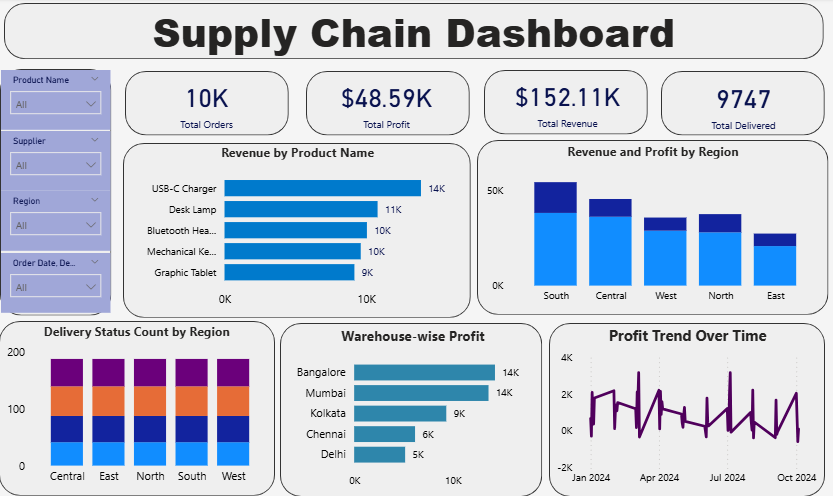

The dashboard page shown, as its layout file describes it:
{"tool":"powerbi","page":{"name":"Page 1","canvas":[912,541],"ordinal":0},"visuals":[{"type":"shape","box":[9,4,891,61],"z":0},{"type":"shape","box":[4,76,121,268],"z":1000},{"type":"shape","box":[140,78,178,70],"z":2000},{"type":"shape","box":[337,78,178,70],"z":3000},{"type":"shape","box":[530,77,178,70],"z":4000},{"type":"shape","box":[723,78,178,70],"z":5000},{"type":"card","fields":{"Values":["Supply_Chain_With_Product_Names.Total Orders"]},"box":[148,78,162,70],"z":6000},{"type":"card","fields":{"Values":["Supply_Chain_With_Product_Names.Total Profit"]},"box":[343,78,162,70],"z":7000},{"type":"card","fields":{"Values":["Supply_Chain_With_Product_Names.Total Revenue"]},"box":[540,77,162,70],"z":8000},{"type":"card","fields":{"Values":["Supply_Chain_With_Product_Names.Total Delivered"]},"box":[732,79,162,70],"z":9000},{"type":"slicer","fields":{"Values":["Supply_Chain_With_Product_Names.Product Name"]},"box":[5,77,119,65],"z":10000},{"type":"slicer","fields":{"Values":["Supply_Chain_With_Product_Names.Supplier"]},"box":[5,143,119,65],"z":11000},{"type":"slicer","fields":{"Values":["Supply_Chain_With_Product_Names.Region"]},"box":[5,209,119,65],"z":12000},{"type":"shape","box":[138,156,378,190],"z":13000},{"type":"shape","box":[523,153,382,190],"z":14000},{"type":"clusteredBarChart","title":" Revenue by Product Name","fields":{"Category":["Supply_Chain_With_Product_Names.Product Name"],"Y":["Sum(Supply_Chain_With_Product_Names.Revenue)"]},"box":[142,158,371,187],"z":15000},{"type":"columnChart","title":" Revenue and  Profit by Region","fields":{"Category":["Supply_Chain_With_Product_Names.Region"],"Y":["Sum(Supply_Chain_With_Product_Names.Revenue)","Sum(Supply_Chain_With_Product_Names.Profit)"]},"box":[528,157,372,184],"z":16000},{"type":"shape","box":[3,350,300,190],"z":17000},{"type":"columnChart","title":"Delivery Status Count by Region ","fields":{"Category":["Supply_Chain_With_Product_Names.Region"],"Y":["Supply_Chain_With_Product_Names.Delivery Status Count"],"Series":["Supply_Chain_With_Product_Names.Delivery Status"]},"box":[7,352,293,185],"z":18000},{"type":"shape","box":[309,352,285,189],"z":19000},{"type":"shape","box":[601,352,300,189],"z":19500},{"type":"barChart","title":"Warehouse-wise Profit ","fields":{"Category":["Supply_Chain_With_Product_Names.Warehouse Location"],"Y":["Supply_Chain_With_Product_Names.Warehouse-wise Profit"]},"box":[316,355,274,186],"z":20000},{"type":"slicer","fields":{"Values":["Supply_Chain_With_Product_Names.Order Date","Supply_Chain_With_Product_Names.Delivery Date"]},"box":[5,276,119,65],"z":21000},{"type":"lineChart","title":" Profit Trend Over Time","fields":{"Y":["Sum(Supply_Chain_With_Product_Names.Profit)"],"Category":["Supply_Chain_With_Product_Names.Order Date"]},"box":[604,354,295,184],"z":23000}]}

Visuals, with their boxes in screenshot pixels (x1, y1, x2, y2), scaled from the page's 912x541 canvas onto the 833x496 screenshot:
shape: [x1=8, y1=4, x2=822, y2=60]
shape: [x1=4, y1=70, x2=114, y2=315]
shape: [x1=128, y1=72, x2=290, y2=136]
shape: [x1=308, y1=72, x2=470, y2=136]
shape: [x1=484, y1=71, x2=647, y2=135]
shape: [x1=660, y1=72, x2=823, y2=136]
card - Supply_Chain_With_Product_Names.Total Orders: [x1=135, y1=72, x2=283, y2=136]
card - Supply_Chain_With_Product_Names.Total Profit: [x1=313, y1=72, x2=461, y2=136]
card - Supply_Chain_With_Product_Names.Total Revenue: [x1=493, y1=71, x2=641, y2=135]
card - Supply_Chain_With_Product_Names.Total Delivered: [x1=669, y1=72, x2=817, y2=137]
slicer - Supply_Chain_With_Product_Names.Product Name: [x1=5, y1=71, x2=113, y2=130]
slicer - Supply_Chain_With_Product_Names.Supplier: [x1=5, y1=131, x2=113, y2=191]
slicer - Supply_Chain_With_Product_Names.Region: [x1=5, y1=192, x2=113, y2=251]
shape: [x1=126, y1=143, x2=471, y2=317]
shape: [x1=478, y1=140, x2=827, y2=314]
" Revenue by Product Name" clusteredBarChart: [x1=130, y1=145, x2=469, y2=316]
" Revenue and  Profit by Region" columnChart: [x1=482, y1=144, x2=822, y2=313]
shape: [x1=3, y1=321, x2=277, y2=495]
"Delivery Status Count by Region " columnChart: [x1=6, y1=323, x2=274, y2=492]
shape: [x1=282, y1=323, x2=543, y2=495]
shape: [x1=549, y1=323, x2=823, y2=495]
"Warehouse-wise Profit " barChart: [x1=289, y1=325, x2=539, y2=495]
slicer - Supply_Chain_With_Product_Names.Order Date x Supply_Chain_With_Product_Names.Delivery Date: [x1=5, y1=253, x2=113, y2=313]
" Profit Trend Over Time" lineChart: [x1=552, y1=325, x2=821, y2=493]
